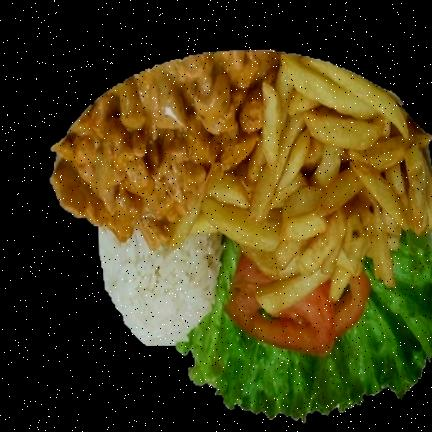chicken: (52, 53, 279, 240)
potato: (102, 55, 432, 306)
rice: (99, 230, 220, 346)
salad: (176, 233, 432, 421)
tomato: (225, 257, 369, 356)
